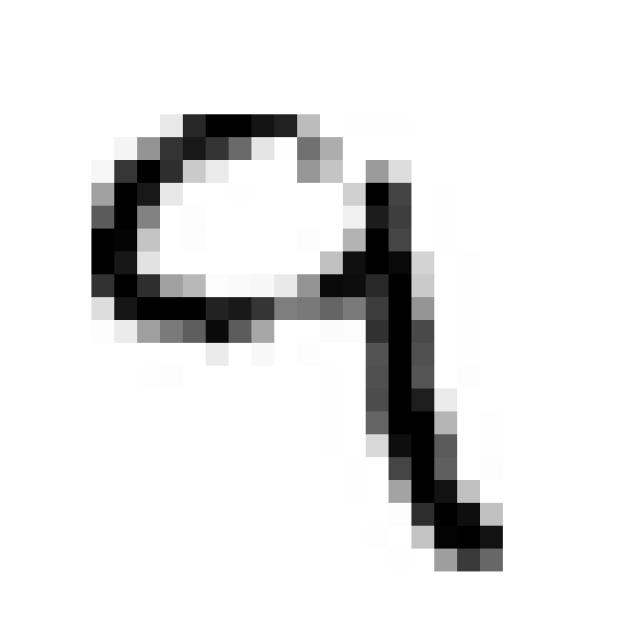9 -nine-: (64, 85, 522, 600)
